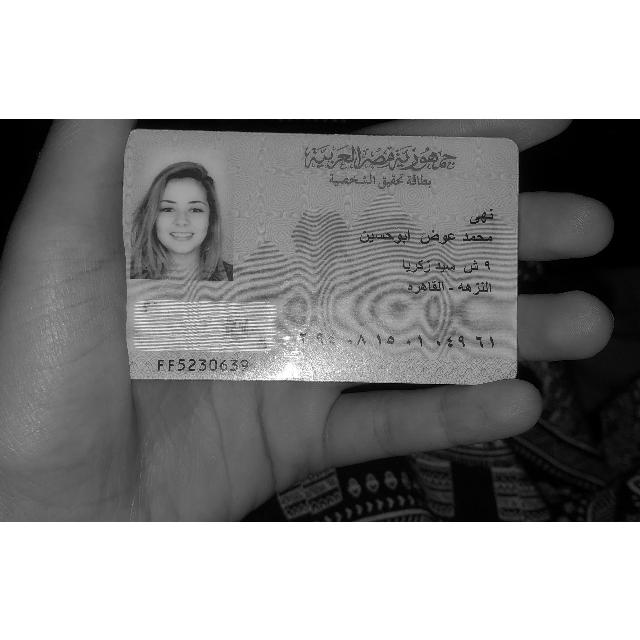id_card: (122, 128, 519, 384)
